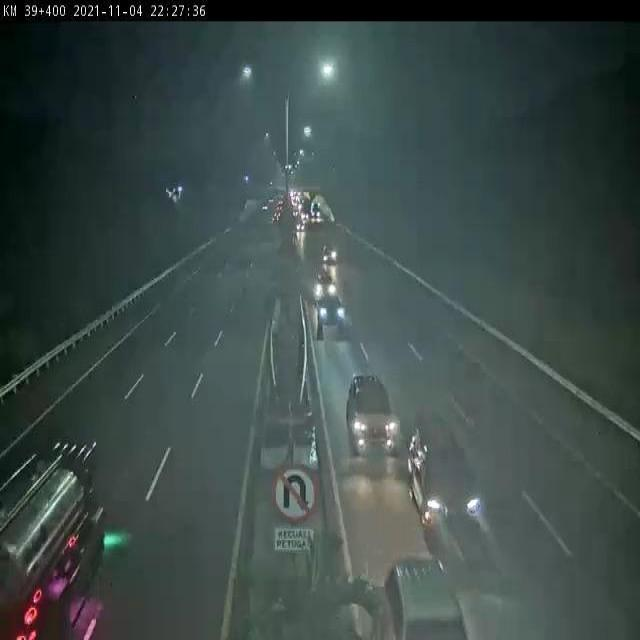car: (406, 421, 481, 543), (347, 373, 401, 458), (318, 294, 347, 338), (312, 272, 336, 300)
truck-l-: (2, 434, 106, 640)
